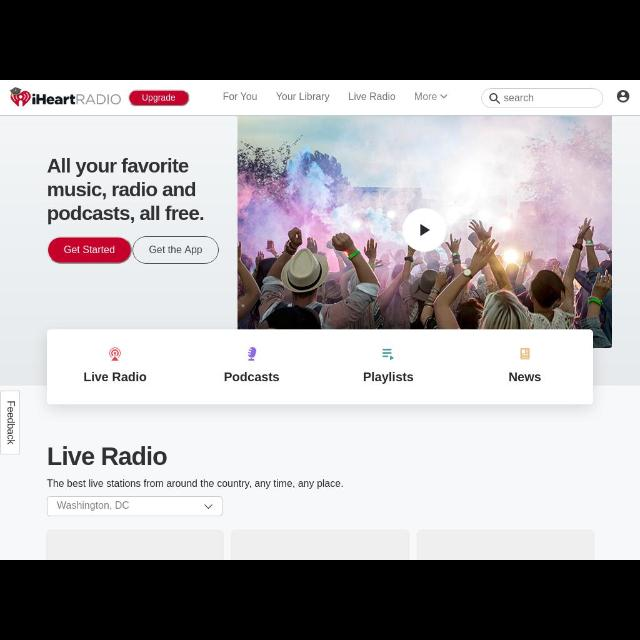icon: (110, 346, 120, 362), (247, 347, 257, 363), (488, 92, 500, 105), (617, 91, 629, 102), (382, 348, 394, 358), (521, 348, 529, 360), (202, 504, 214, 510), (439, 93, 447, 99)
image: (238, 115, 612, 349), (10, 86, 120, 108)
input: (482, 88, 602, 109)
spinner: (49, 496, 221, 516), (414, 91, 448, 102)
text: (49, 158, 205, 224), (46, 478, 344, 492), (48, 446, 165, 468), (56, 501, 130, 512), (82, 372, 148, 382), (364, 371, 414, 384), (148, 244, 202, 256), (224, 372, 280, 382), (347, 91, 397, 102), (62, 246, 116, 256), (278, 92, 330, 102), (6, 400, 16, 446), (223, 91, 257, 103), (508, 371, 542, 383), (140, 93, 178, 103), (503, 95, 532, 104), (414, 92, 438, 101)
textbutton: (133, 237, 219, 265), (49, 238, 131, 264), (2, 391, 20, 454), (130, 90, 190, 106)
toolbar: (1, 81, 639, 115)
